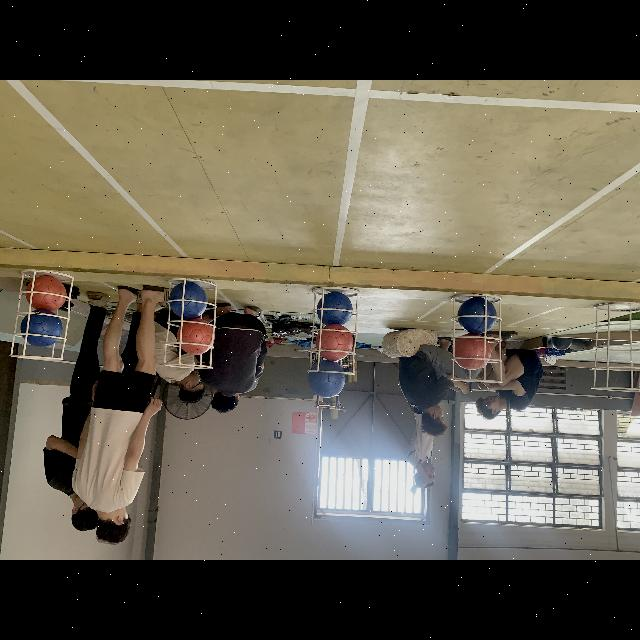B: (22, 309, 62, 346), (456, 298, 496, 334), (309, 359, 345, 398), (317, 289, 353, 327), (171, 282, 207, 318)
R: (27, 272, 68, 312), (455, 333, 491, 371), (178, 318, 214, 354), (317, 325, 353, 361)
